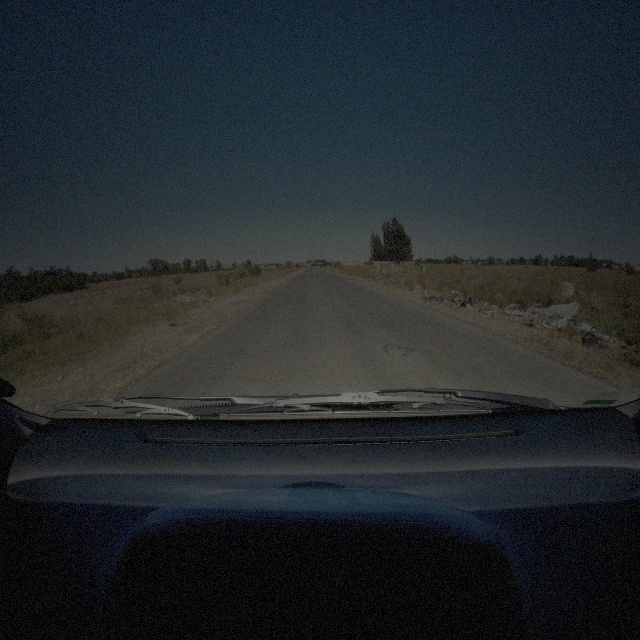pothole: (384, 342, 410, 359)
